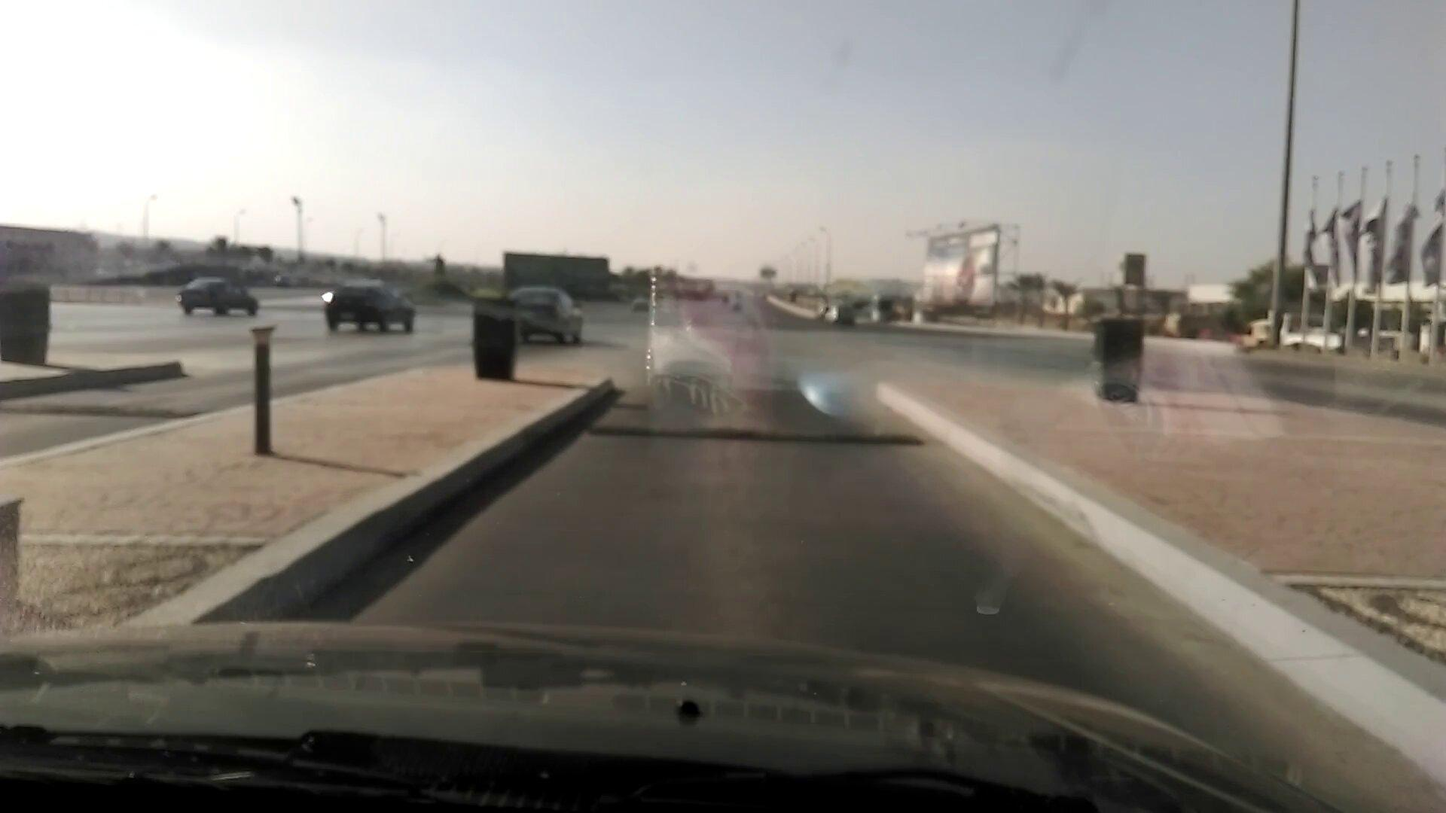Bump: (602, 418, 915, 452)
